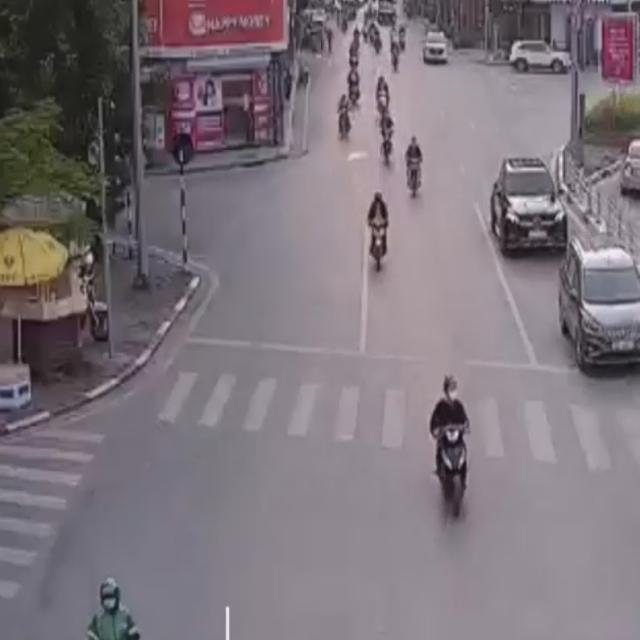car: (548, 237, 640, 374), (488, 153, 566, 258)
motorbike: (421, 371, 475, 522), (365, 188, 393, 270), (400, 130, 426, 200), (334, 89, 354, 145), (379, 107, 399, 162), (374, 71, 390, 116)
